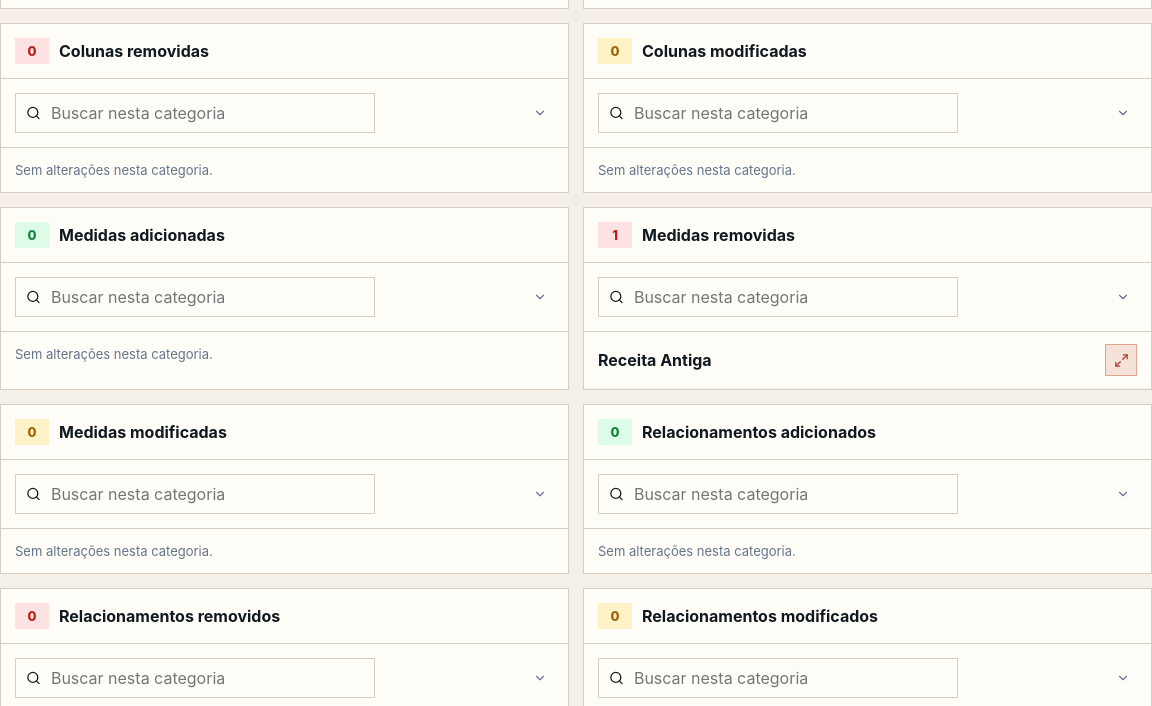
it: CompareView › mostra somente o DAX da versão anterior para medida removida
The width and height of the screenshot is (1152, 706).
(page scrolled)
Expected: the list item "Receita Antiga" is shown, [584,332,1151,389]
Click the button named "expandir detalhe" at (1121, 360), box [1105,344,1137,376]
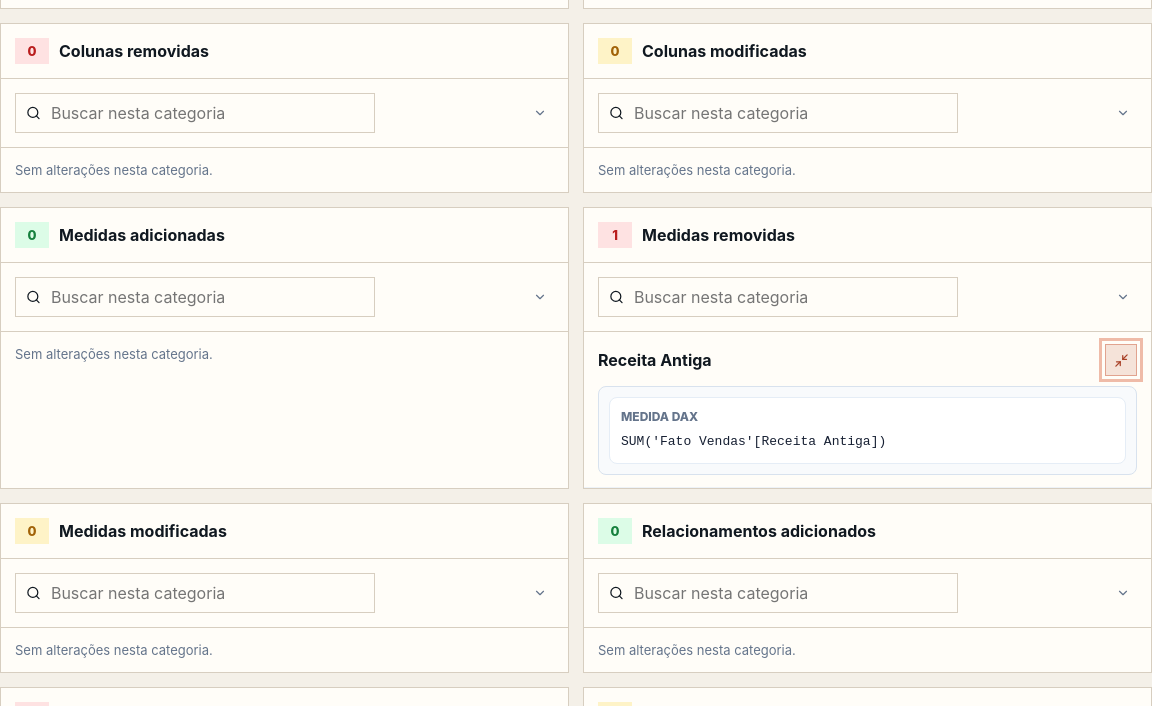
Expected: the text "Medida DAX" is shown, [621,409,698,424]
Expected: the text "SUM('Fato Vendas'[Receita Antiga])" is shown, [621,434,886,449]
